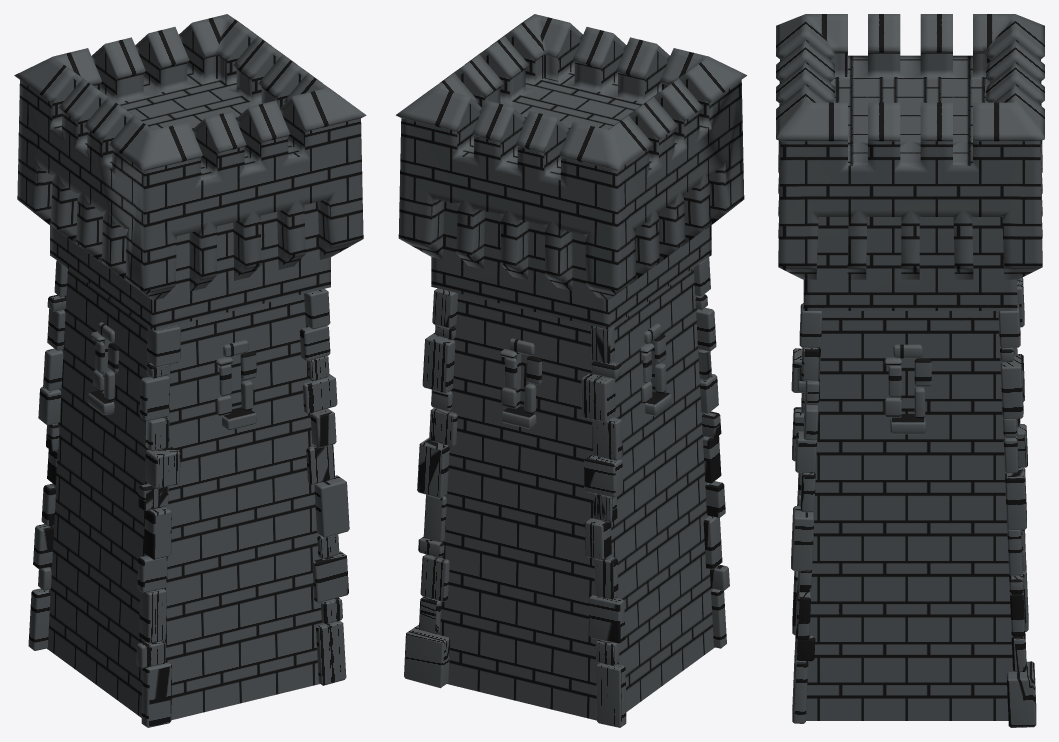
The model's file is LargeTower.fbx.
3 renders of one model, left to right at view 1: azimuth 30°, elevation 25°; view 2: azimuth 150°, elevation 25°; view 3: azimuth 270°, elevation 25°, orthographic. The views are drawn at different scales.
Parts seen in each view (by area): view 1: LargeTowerBase, LargeTowerCrown, LargeTowerBricks, LargeTowerShingles; view 2: LargeTowerBase, LargeTowerCrown, LargeTowerBricks, LargeTowerShingles; view 3: LargeTowerBase, LargeTowerCrown, LargeTowerShingles, LargeTowerBricks.
Boxes of the visible parts, x1=… form: LargeTowerBase: x1=47, y1=202, x2=330, y2=720; LargeTowerCrown: x1=17, y1=30, x2=363, y2=300; LargeTowerBricks: x1=28, y1=260, x2=349, y2=727; LargeTowerShingles: x1=14, y1=14, x2=366, y2=170; LargeTowerBase: x1=431, y1=201, x2=714, y2=720; LargeTowerCrown: x1=398, y1=30, x2=744, y2=299; LargeTowerBricks: x1=404, y1=257, x2=729, y2=727; LargeTowerShingles: x1=396, y1=14, x2=746, y2=170; LargeTowerBase: x1=803, y1=217, x2=1017, y2=720; LargeTowerCrown: x1=778, y1=39, x2=1042, y2=279; LargeTowerShingles: x1=776, y1=14, x2=1044, y2=141; LargeTowerBricks: x1=791, y1=277, x2=1036, y2=727.
Size of the model in its own units: 2.91 by 7.35 by 2.91.
